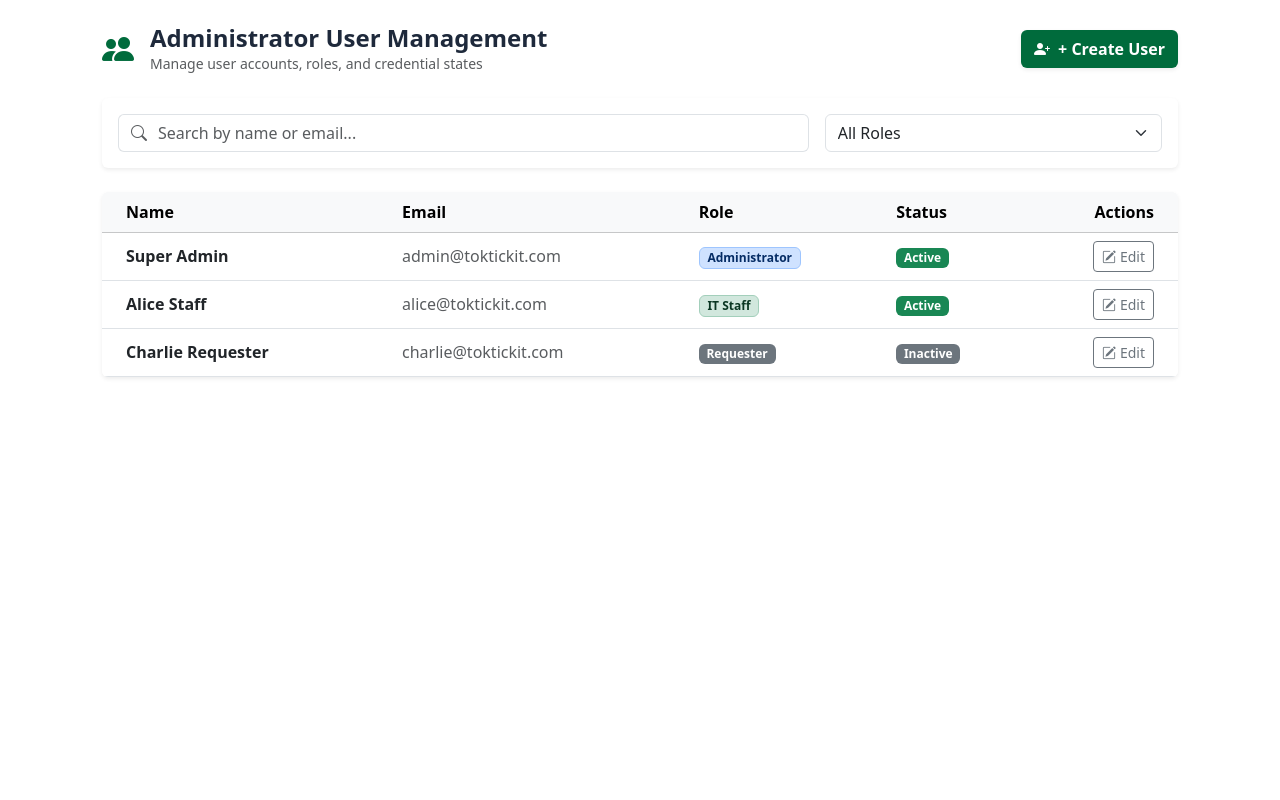
Administrator User Management UI (Lab 3 UI-27 to UI-34) › UI-33: displays safety feedback when last active Admin cannot be deactivated or demoted
The width and height of the screenshot is (1280, 800).
Click the button with aria-label "edit alice staff" at (1123, 304), box [1093, 289, 1154, 320]
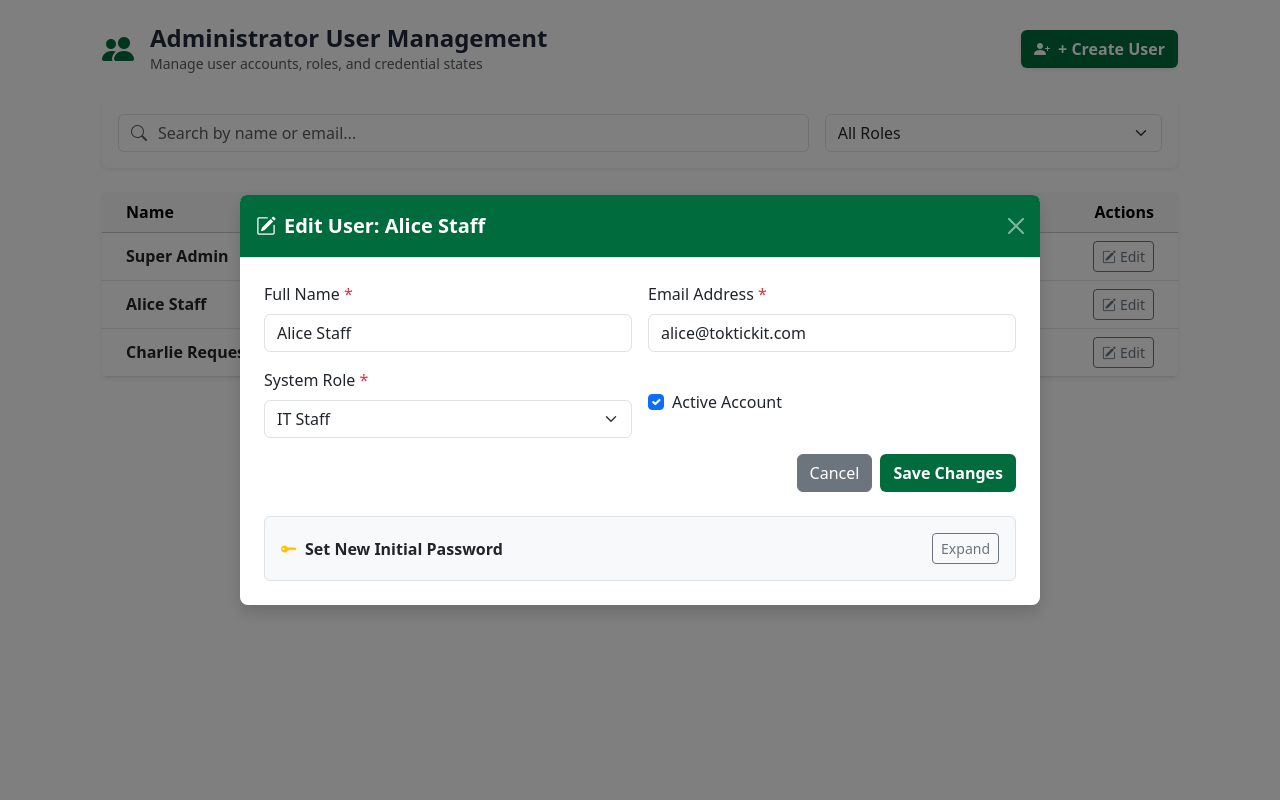
Select "Requester" in the dropdown labelled "System Role *" at (448, 419), box [264, 400, 632, 438]
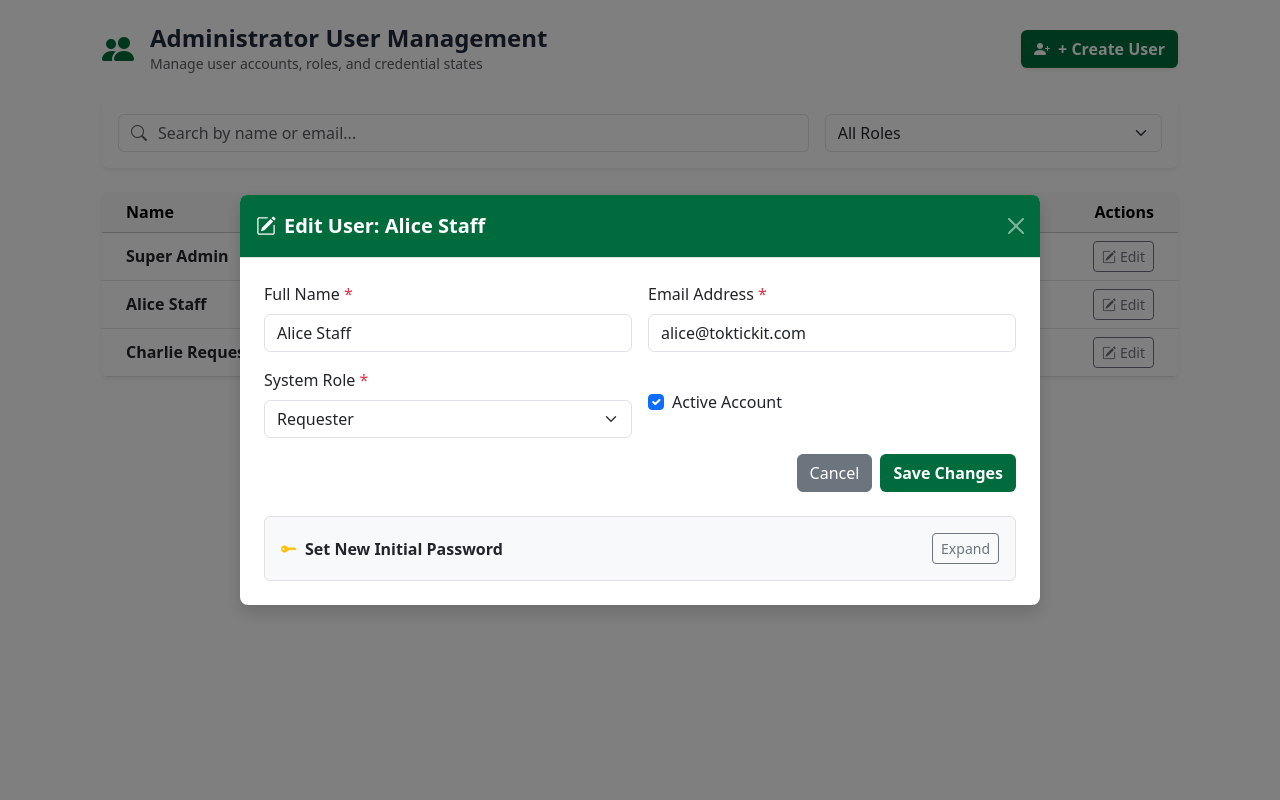
Click the button "Save Changes" at (948, 473), box [880, 454, 1016, 492]
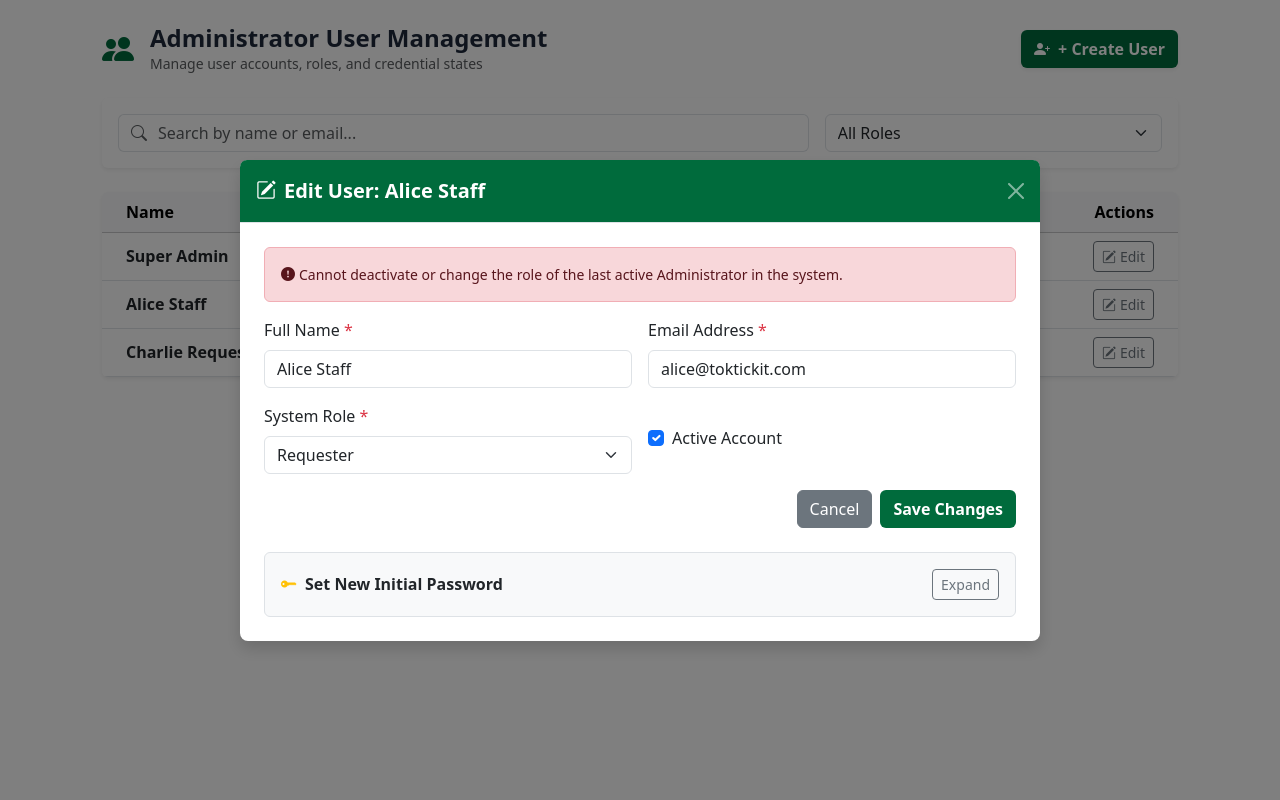
Result: the text "cannot deactivate or change the role of the last active administrator in the system" is shown at [299, 264, 843, 284]
